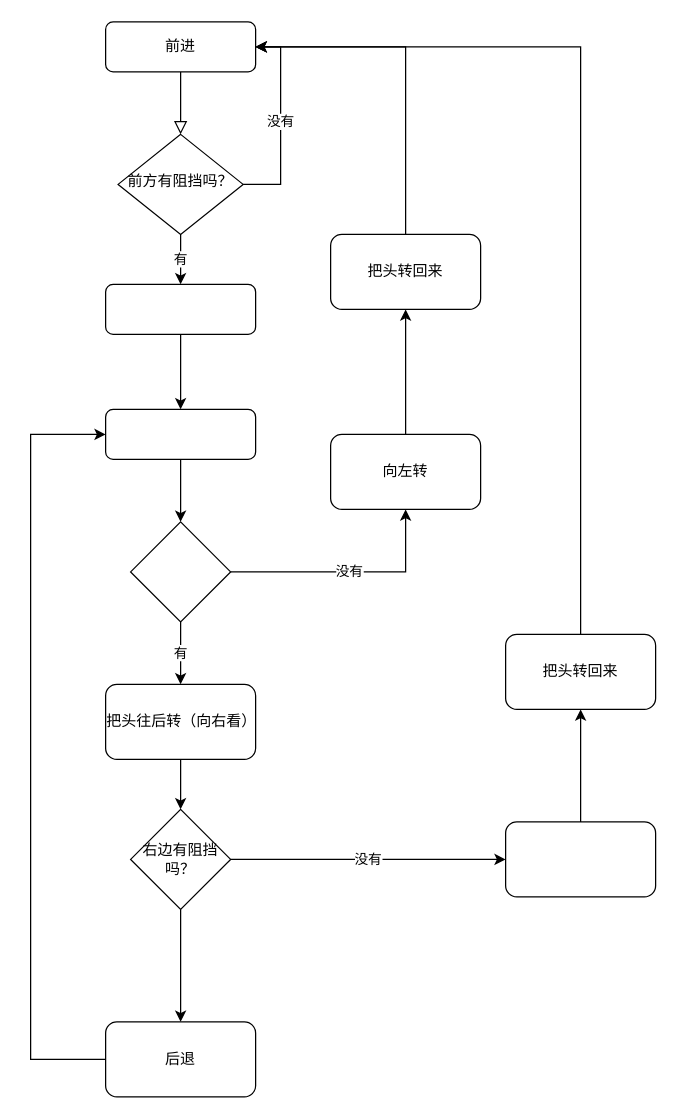
Some shapes in this 678 by 1119 pixel diagram are drawn without their labels. The shapes that lost their labels are listed below. From the top down, each one's box as (x1, y1, x2, y2) in pixels, then its label:
(104, 283, 256, 334): 停止前进
(104, 408, 256, 459): 向左看
(129, 521, 231, 622): 左边有阻挡吗？
(504, 821, 656, 897): 向右转
